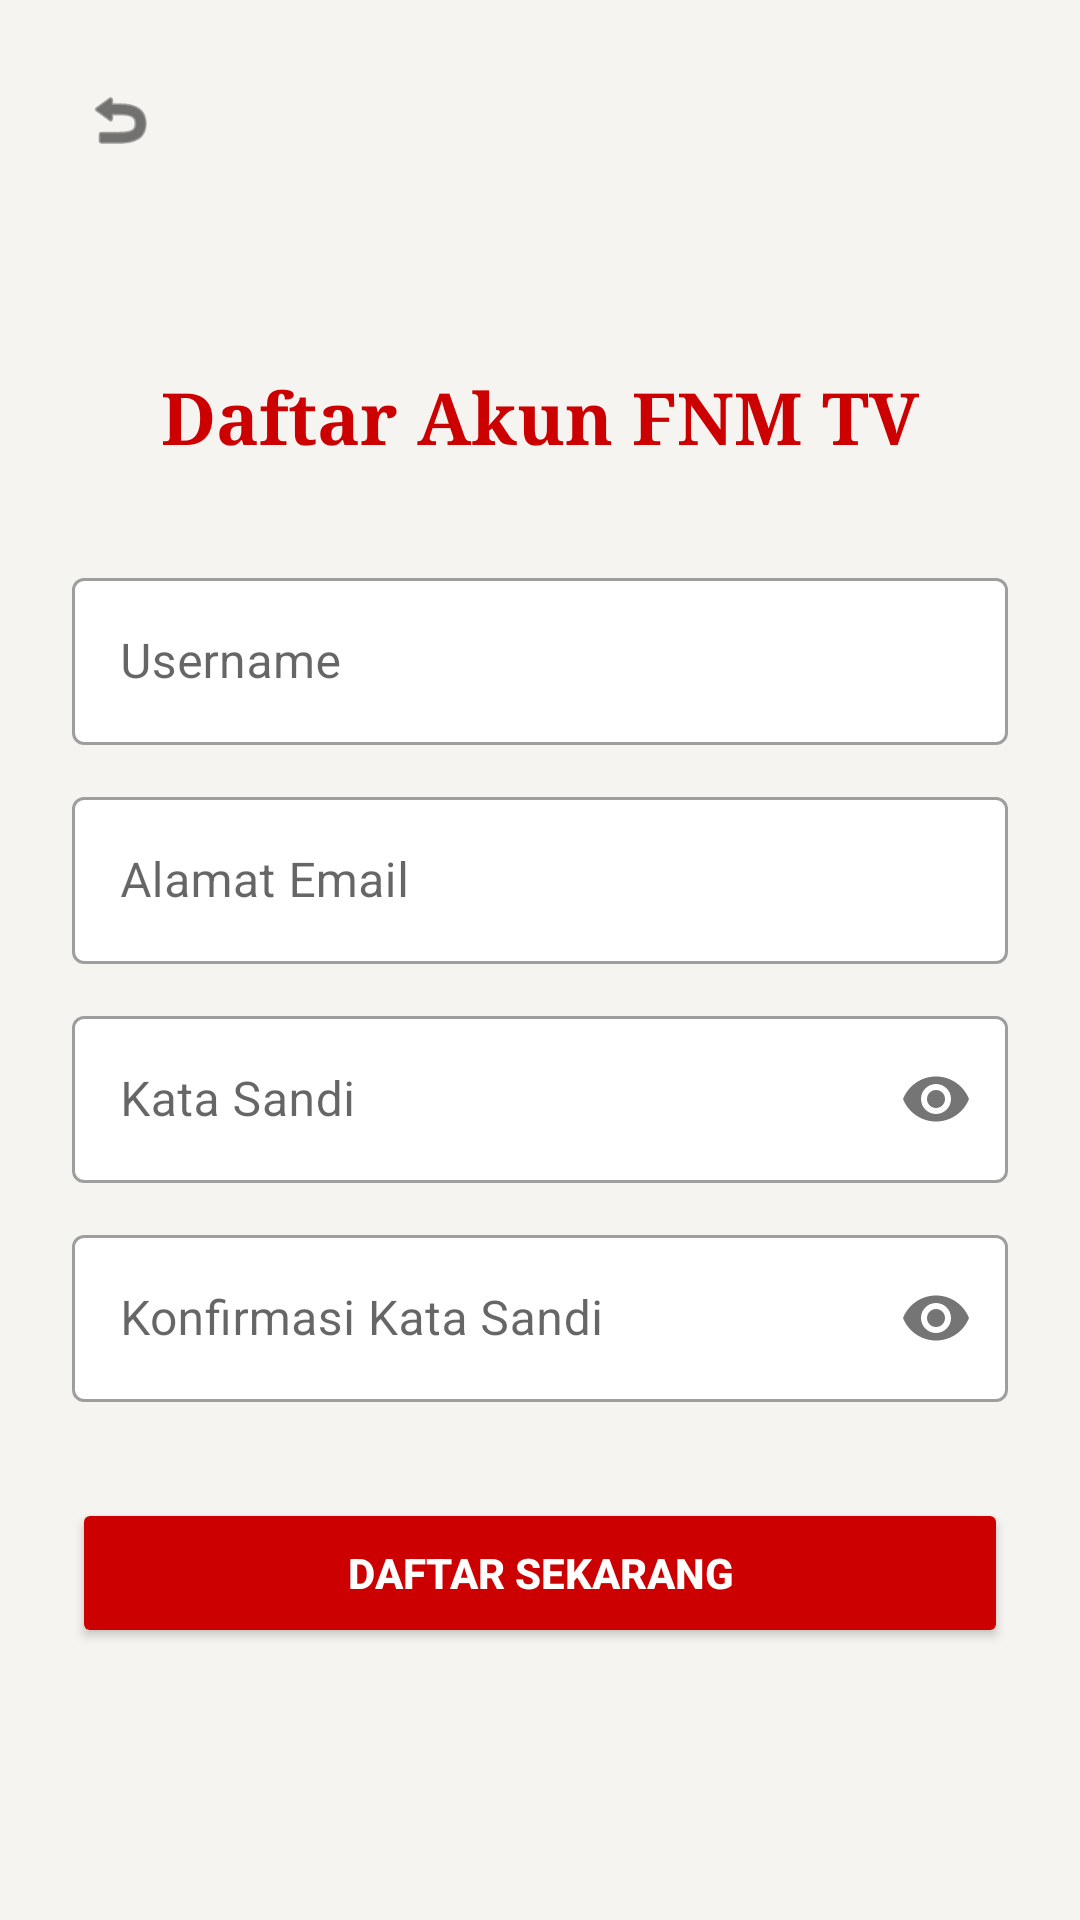

Point at icon controls on the screen. Image size 1080*1920, points as point (x, y).
revert: point (121, 120)
